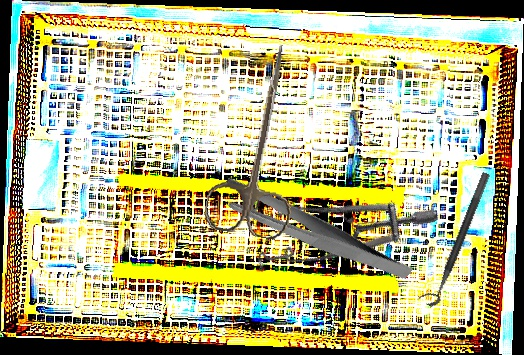Dressing Forceps: (214, 140, 414, 324)
Fixation Ring: (416, 167, 492, 309)
Iris Scissors: (201, 37, 320, 242)
Speculum: (223, 117, 442, 317)
